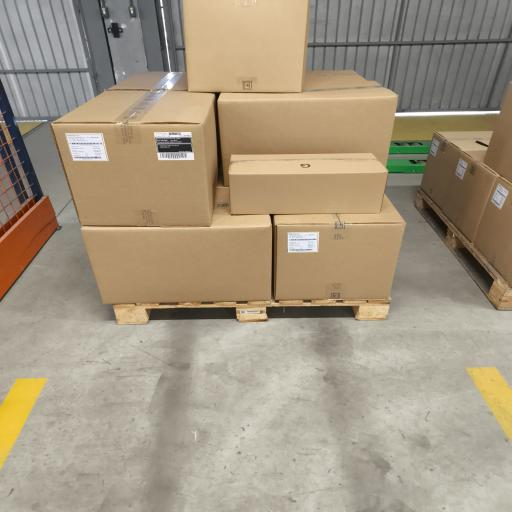pallet: (415, 189, 511, 310), (114, 300, 390, 324)
